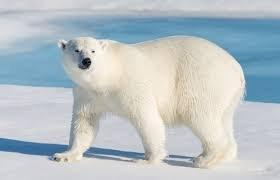bear: (51, 35, 247, 167)
